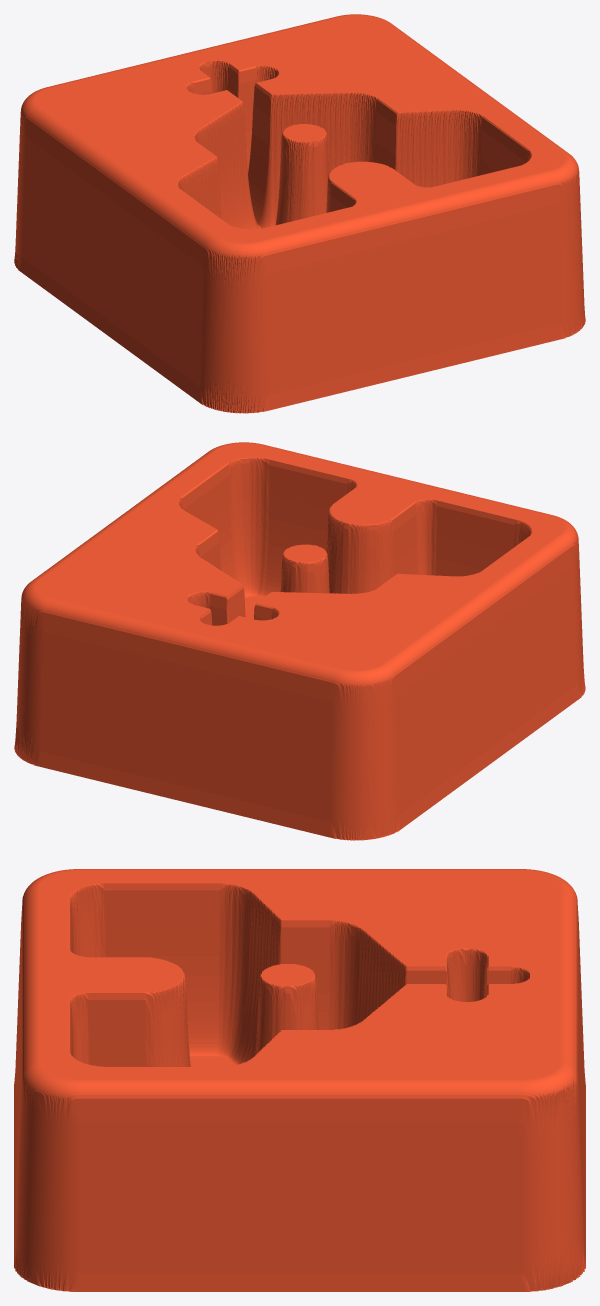
The model's file is mold.glb.
3 views of the same model, one above another, from view 1: azimuth 30°, elevation 25°; view 2: azimuth 150°, elevation 25°; view 3: azimuth 270°, elevation 25° (orthographic). The views are drawn at different scales.
Parts seen in each view (by area): view 1: geometry_0; view 2: geometry_0; view 3: geometry_0.
Boxes of the visible parts, x1,y1,x2,y2 form: geometry_0: (14,14,585,413); geometry_0: (14,442,585,840); geometry_0: (14,869,585,1291).
Bounding box in the file's own units: 0.0762 × 0.031 × 0.0798.
